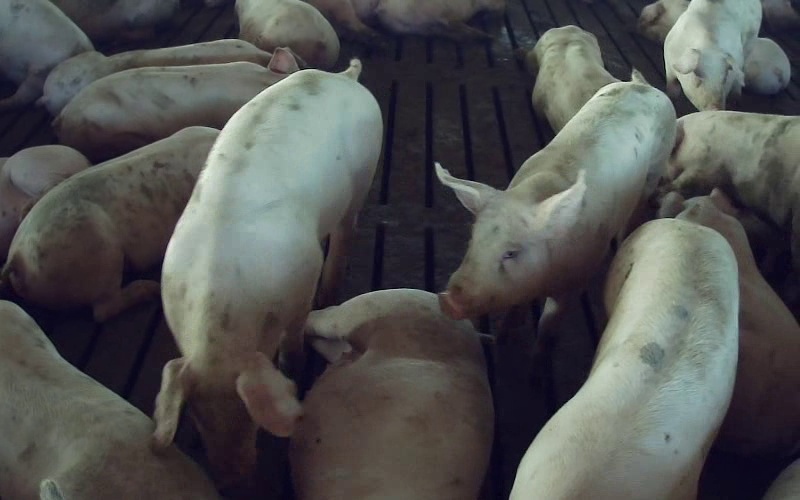pig: (436, 73, 675, 341), (511, 219, 737, 499), (290, 289, 493, 497), (3, 127, 218, 321), (660, 190, 799, 455), (53, 48, 296, 161), (670, 111, 799, 273), (38, 39, 270, 115), (0, 145, 89, 263), (526, 25, 616, 132), (235, 0, 339, 68)
